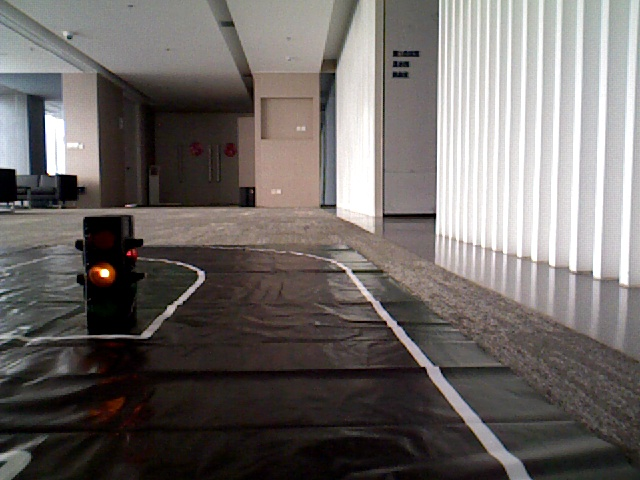yellow: (82, 220, 128, 315)
